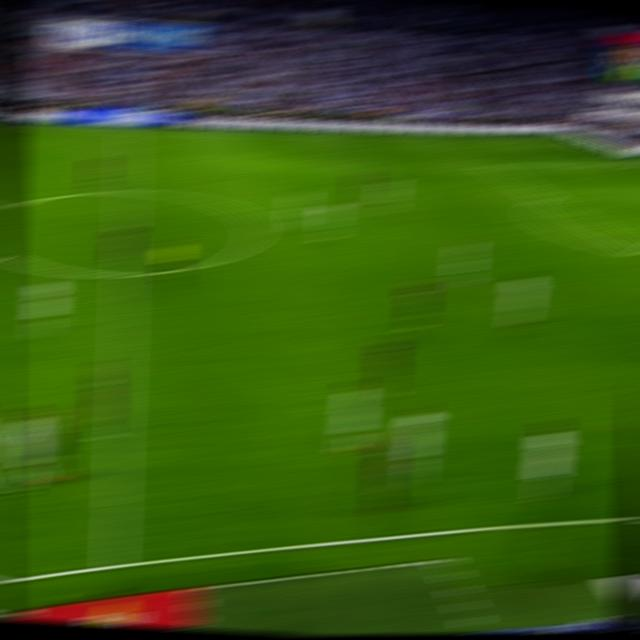corner: (555, 134, 577, 143)
halfcircle_bottom: (110, 261, 138, 285)
halfcircle_top: (114, 183, 138, 200)
midline_top_intersection: (118, 127, 138, 136)
top_arc_area_intersection: (531, 189, 555, 203)
